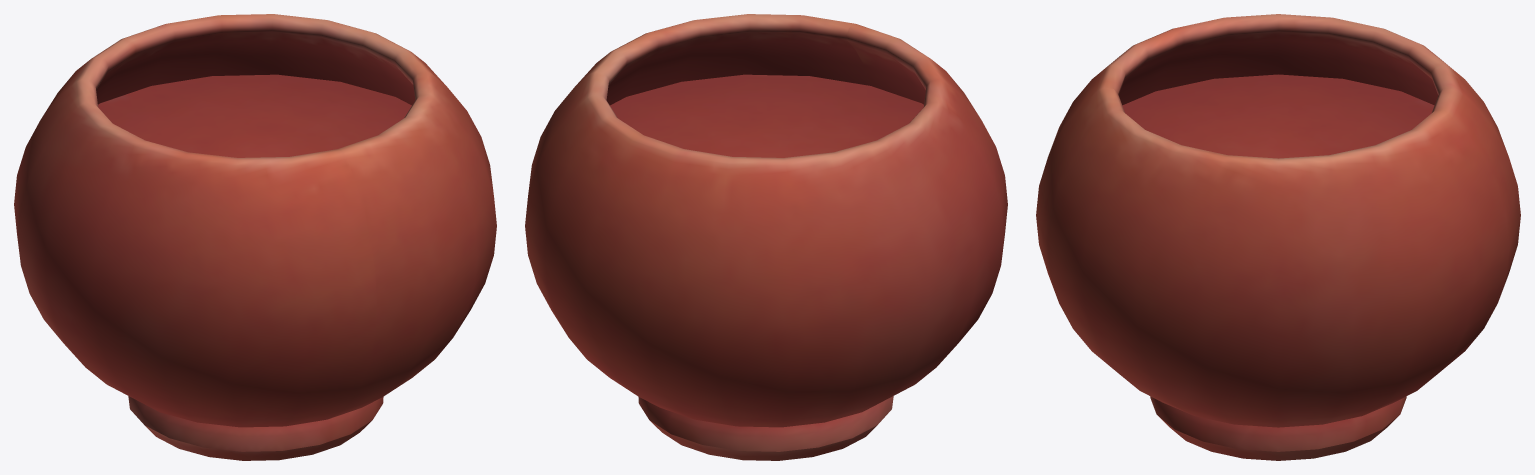
The model's file is SM_FlowerPot_01.fbx.
The picture shows the model from 3 angles, left to right: view 1: azimuth 30°, elevation 25°; view 2: azimuth 150°, elevation 25°; view 3: azimuth 270°, elevation 25°; orthographic projection.
Visible parts, largest first — view 1: SM_FlowerPot_01_LOD0; view 2: SM_FlowerPot_01_LOD0; view 3: SM_FlowerPot_01_LOD0.
Boxes of the visible parts, <box> form: SM_FlowerPot_01_LOD0: <box>14,14,496,460</box>; SM_FlowerPot_01_LOD0: <box>525,14,1007,460</box>; SM_FlowerPot_01_LOD0: <box>1036,14,1520,460</box>.
Bounding box in the file's own units: 23.56 × 23.56 × 17.74.
